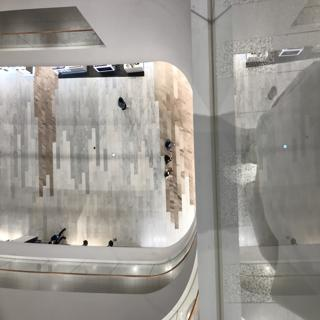person: (156, 158, 180, 186), (110, 91, 127, 108), (158, 135, 177, 150)
